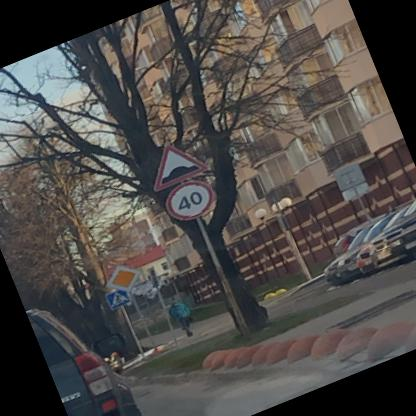crosswalk: (100, 284, 129, 310)
speedlimit: (158, 174, 215, 224)
